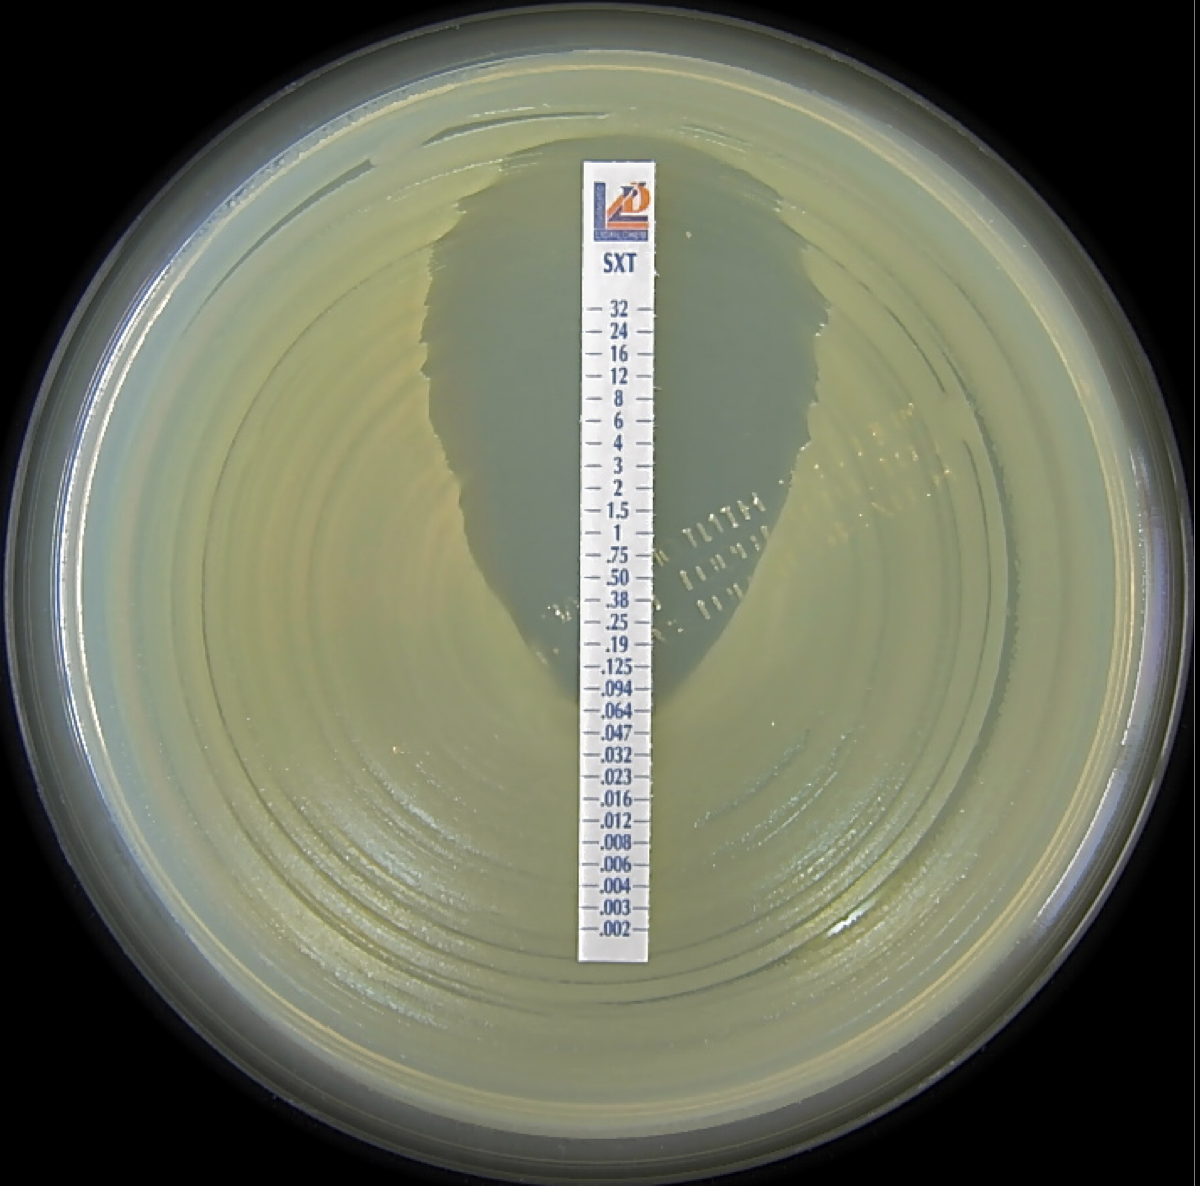line: (578, 161, 655, 964)
zone: (424, 133, 822, 706)
